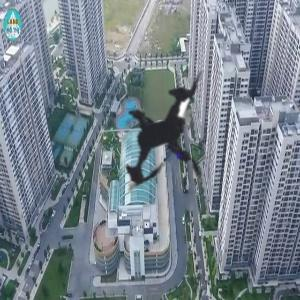drone: (62, 24, 282, 244)
